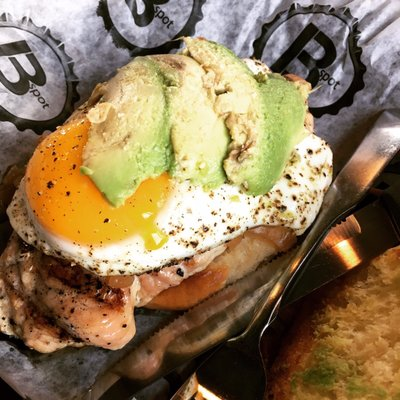sandwich: (0, 24, 339, 389)
